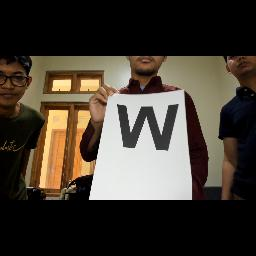w: (112, 100, 184, 154)
